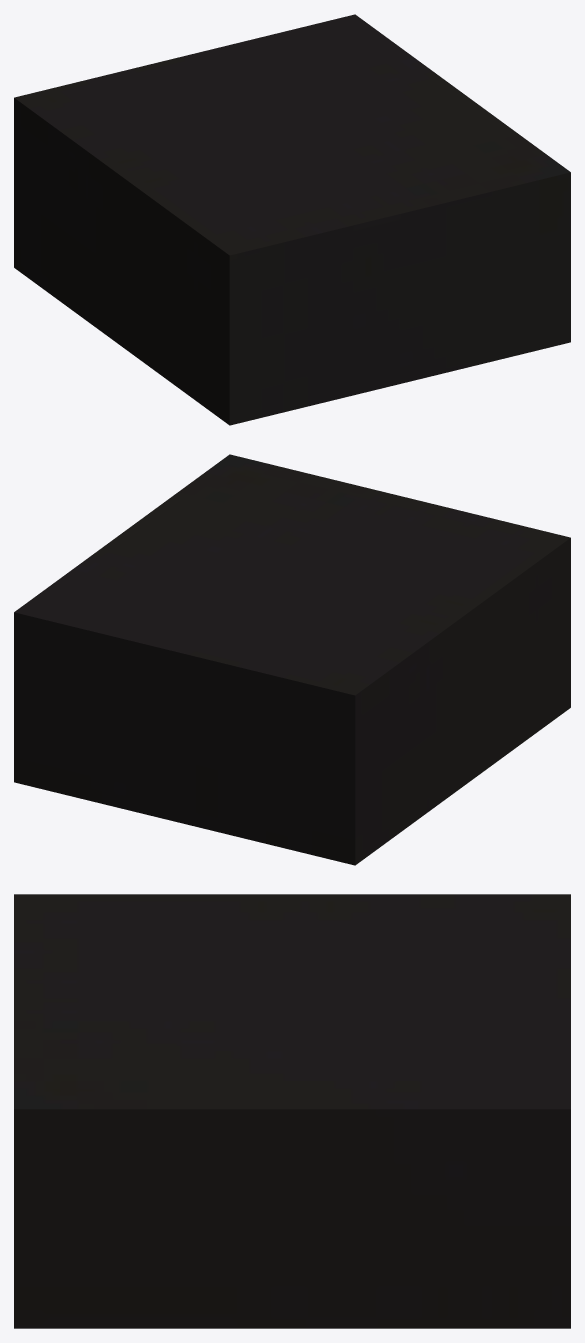
File: frame__wheel_mount_1.glb
3 views of the same model, one above another, from view 1: azimuth 30°, elevation 25°; view 2: azimuth 150°, elevation 25°; view 3: azimuth 270°, elevation 25° (orthographic). The views are drawn at different scales.
Visible parts, largest first — view 1: world; view 2: world; view 3: world.
Boxes of the visible parts, bbox=[...] form: world: bbox=[14, 14, 570, 425]; world: bbox=[14, 454, 570, 865]; world: bbox=[14, 894, 570, 1328].
Bounding box in the file's own units: 0.105 × 0.05 × 0.115.
Materials: 1 (1 with a texture image).
